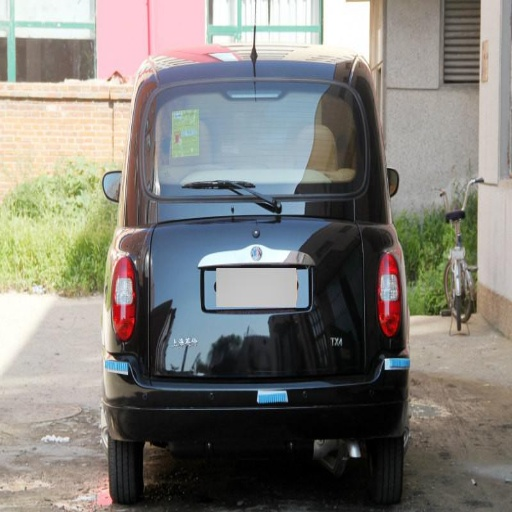back_bumper: (105, 319, 407, 440)
tailgate: (191, 167, 358, 259), (309, 320, 348, 365)
trunk: (118, 192, 389, 373), (191, 65, 340, 145)
